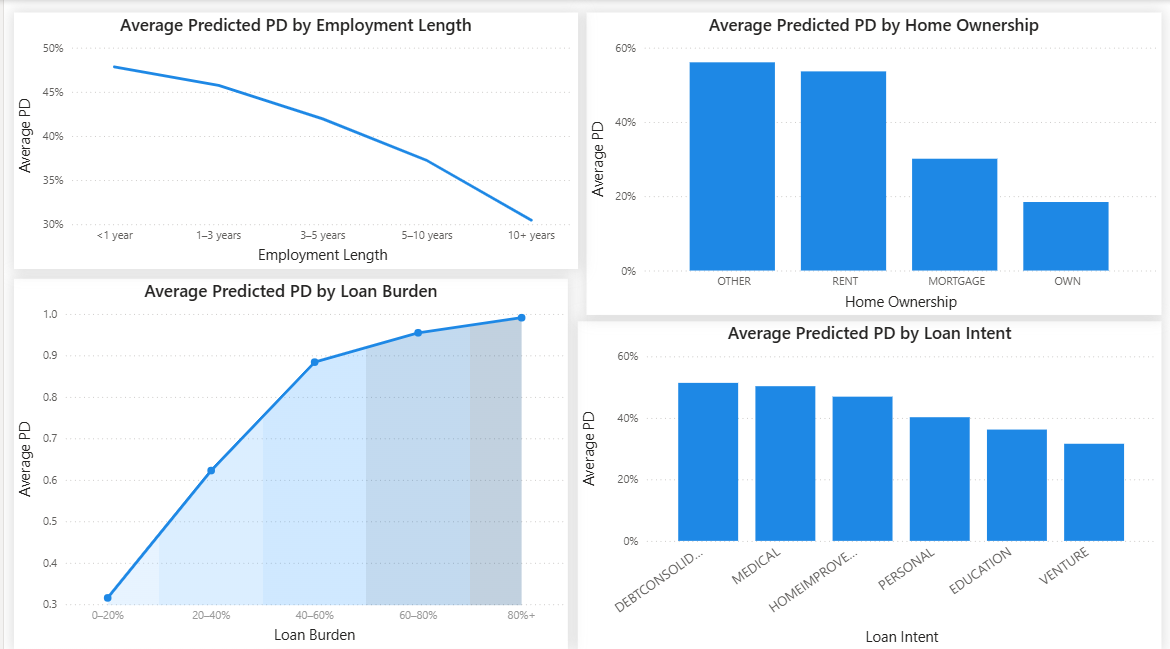

The page's visual inventory and layout, read from the dashboard file:
{"tool":"powerbi","page":{"name":"Risk Driver Behavior Analysis","canvas":[1280,720],"ordinal":2},"visuals":[{"type":"columnChart","title":"Average Predicted PD by Loan Intent","fields":{"Category":["pd_scoring_output_pbi.loan_intent"],"Y":["Avg(pd_scoring_output_pbi.pd)"]},"box":[629.8,352.7,640.8,360.9],"z":0},{"type":"columnChart","title":"Average Predicted PD by Home Ownership","fields":{"Category":["pd_scoring_output_pbi.person_home_ownership"],"Y":["Avg(pd_scoring_output_pbi.pd)"]},"box":[639.5,13.7,631.2,332.1],"z":1},{"type":"lineChart","title":"Average Predicted PD by Loan Burden","fields":{"Category":["pd_scoring_output_pbi.Loan Burden Band"],"Y":["Avg(pd_scoring_output_pbi.pd)"]},"box":[11,306,607.9,406.2],"z":2},{"type":"lineChart","title":"Average Predicted PD by Employment Length","fields":{"Category":["pd_scoring_output_pbi.Employment Length Band"],"Y":["Avg(pd_scoring_output_pbi.pd)"]},"box":[11,13.7,618.9,281.3],"z":3}]}

Visuals, with their boxes in screenshot pixels (x1, y1, x2, y2), scaled from the page's 1280x720 canvas onto the 1170x649 screenshot:
"Average Predicted PD by Loan Intent" columnChart: x1=576 y1=318 x2=1161 y2=643
"Average Predicted PD by Home Ownership" columnChart: x1=585 y1=12 x2=1161 y2=312
"Average Predicted PD by Loan Burden" lineChart: x1=10 y1=276 x2=566 y2=642
"Average Predicted PD by Employment Length" lineChart: x1=10 y1=12 x2=576 y2=266
